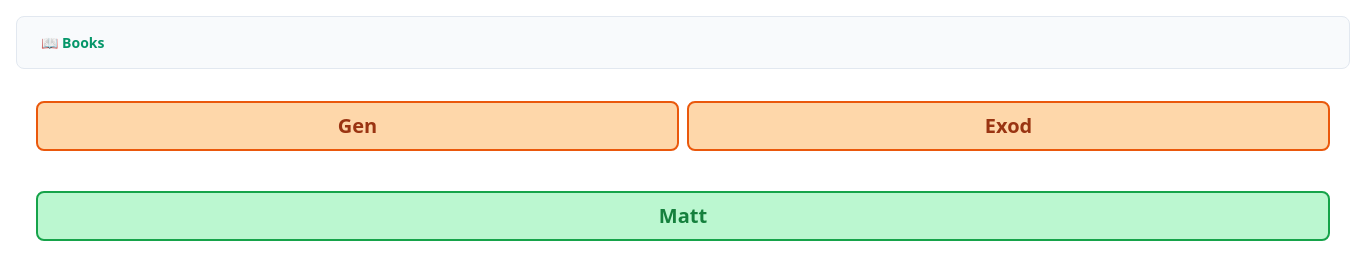
Scenario: Navigation › Breadcrumb Navigation › Books button resets all selections
# Navigate to verse
Step 1. Click the button "Gen" → coordinates (358, 126), box x1=36 y1=100 x2=679 y2=150
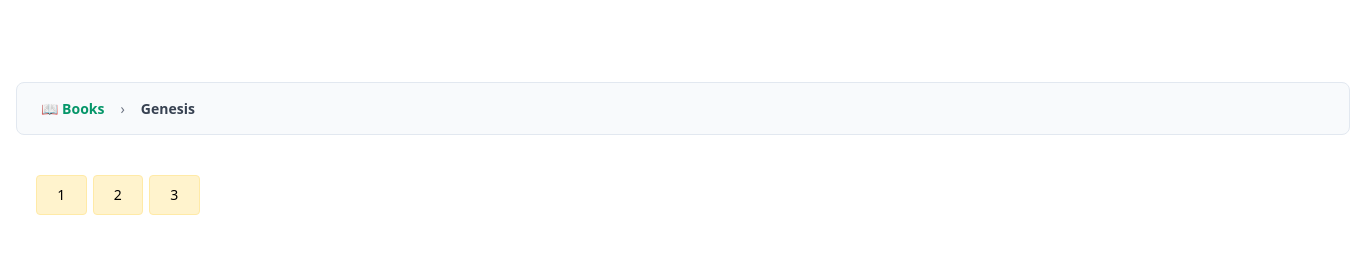
Step 2. Click the button "1" → coordinates (61, 194), box x1=36 y1=174 x2=86 y2=214
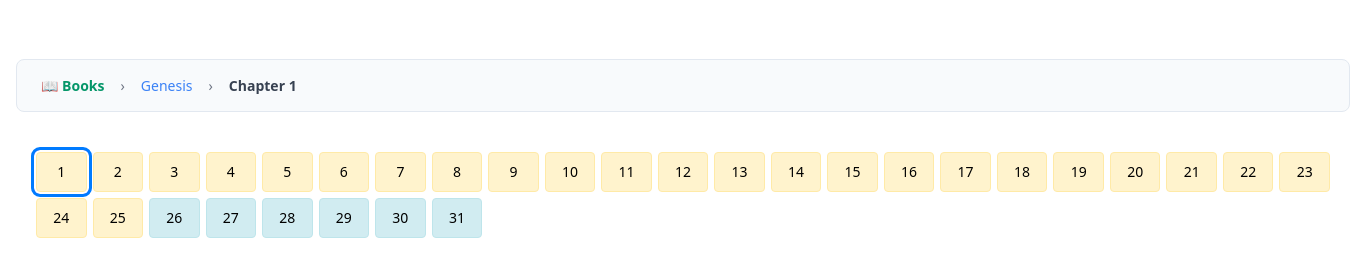
Step 3. Click the button "5" → coordinates (287, 172), box x1=262 y1=152 x2=313 y2=192
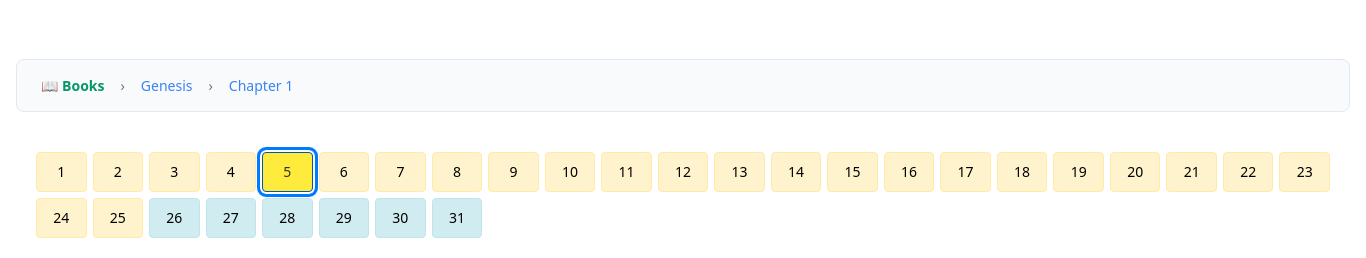
# Click Books button
Step 4. Click the button "📖 Books" → coordinates (73, 85), box x1=33 y1=72 x2=112 y2=98
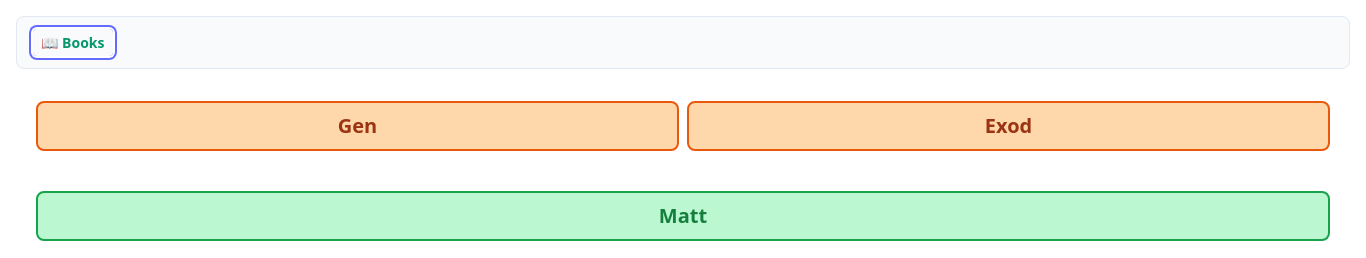
Expected: the text "Gen" is shown, x1=338 y1=112 x2=377 y2=139
Now the text "Exod" is shown, box x1=985 y1=112 x2=1032 y2=139
Now the text "Matt" is shown, box x1=659 y1=202 x2=707 y2=229
